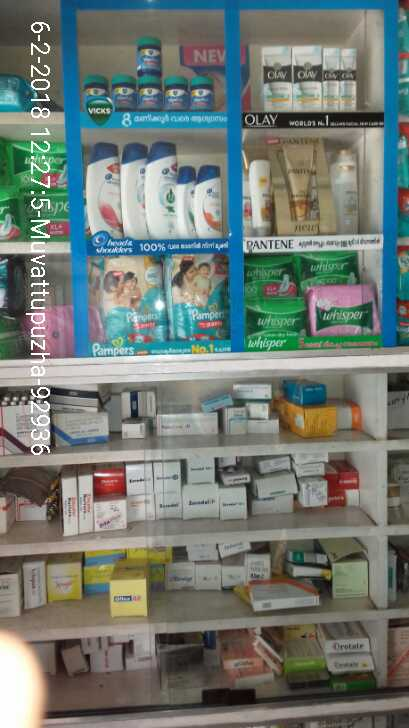vicks: (85, 38, 216, 108)
